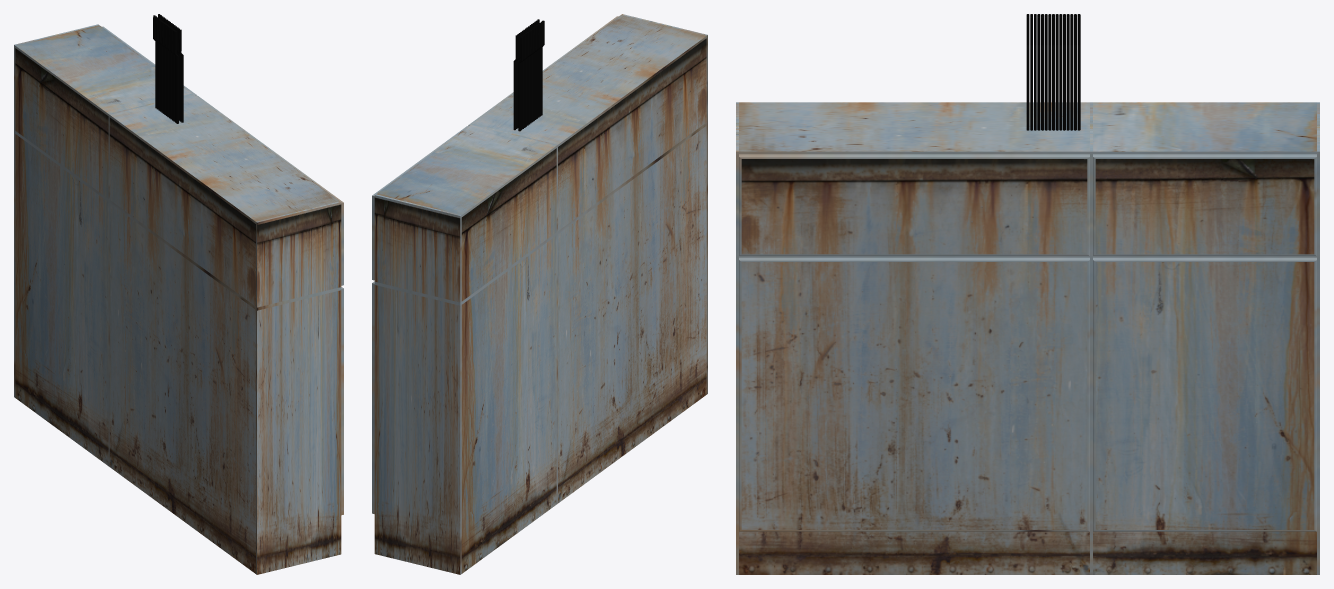
The model's file is plantaEnergia.obj.
3 views of the same model, side by side, from view 1: azimuth 30°, elevation 25°; view 2: azimuth 150°, elevation 25°; view 3: azimuth 270°, elevation 25° (orthographic). The views are drawn at different scales.
Visible parts, largest first — view 1: plantaEnergia:Mesh; view 2: plantaEnergia:Mesh; view 3: plantaEnergia:Mesh.
Part boxes in pixels (x1,y1,x2,y2): plantaEnergia:Mesh: (14, 14, 343, 574); plantaEnergia:Mesh: (372, 14, 707, 574); plantaEnergia:Mesh: (736, 14, 1319, 574).
Size of the model in its own units: 2.1 by 10.11 by 10.
Materials: 2 (1 with a texture image).
